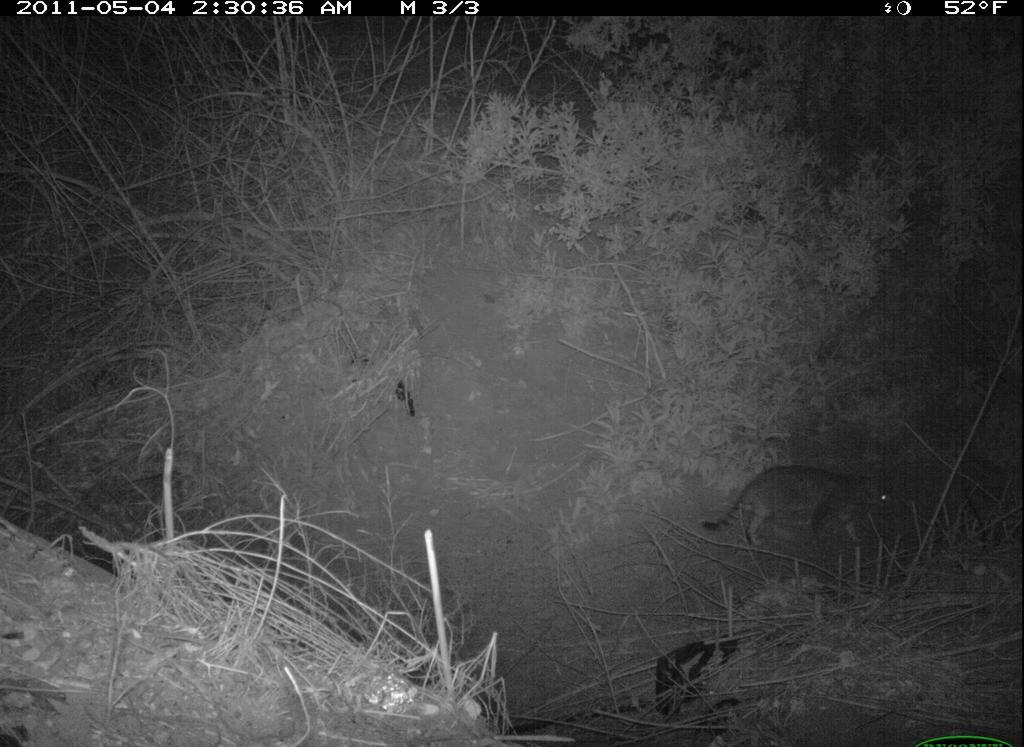cat: (701, 452, 905, 562)
